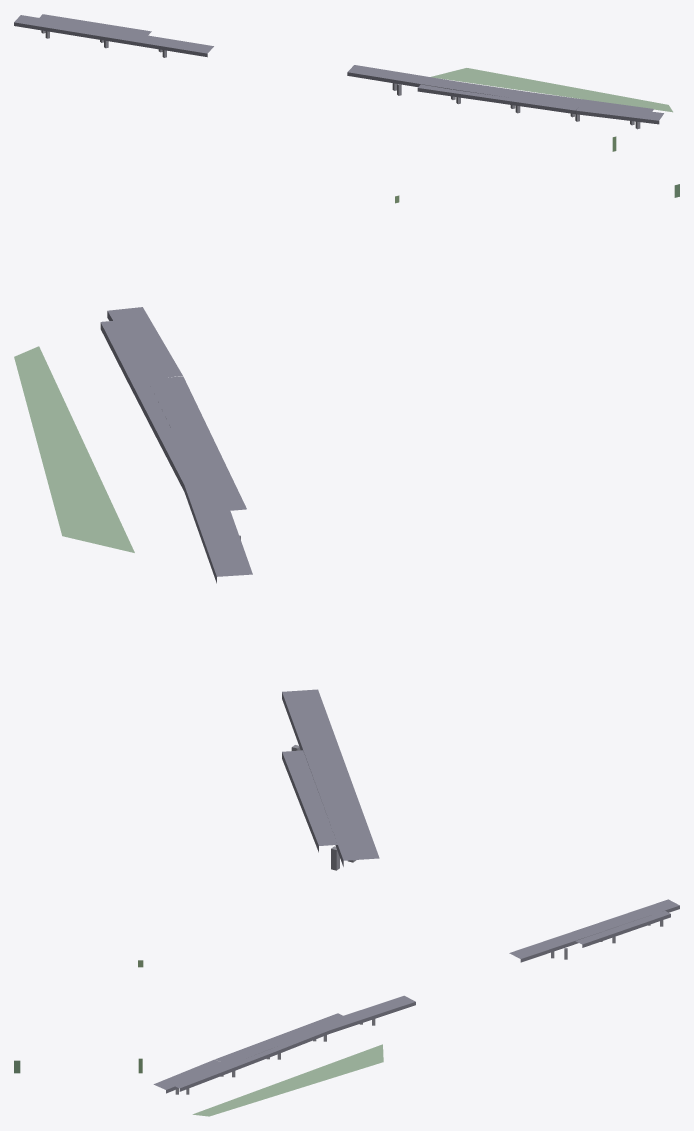
3 renders of one model, top to bottom at view 1: azimuth 30°, elevation 25°; view 2: azimuth 150°, elevation 25°; view 3: azimuth 270°, elevation 25°, orthographic. The views are drawn at different scales.
Size of the model in its own units: 233 by 8.1 by 323.
